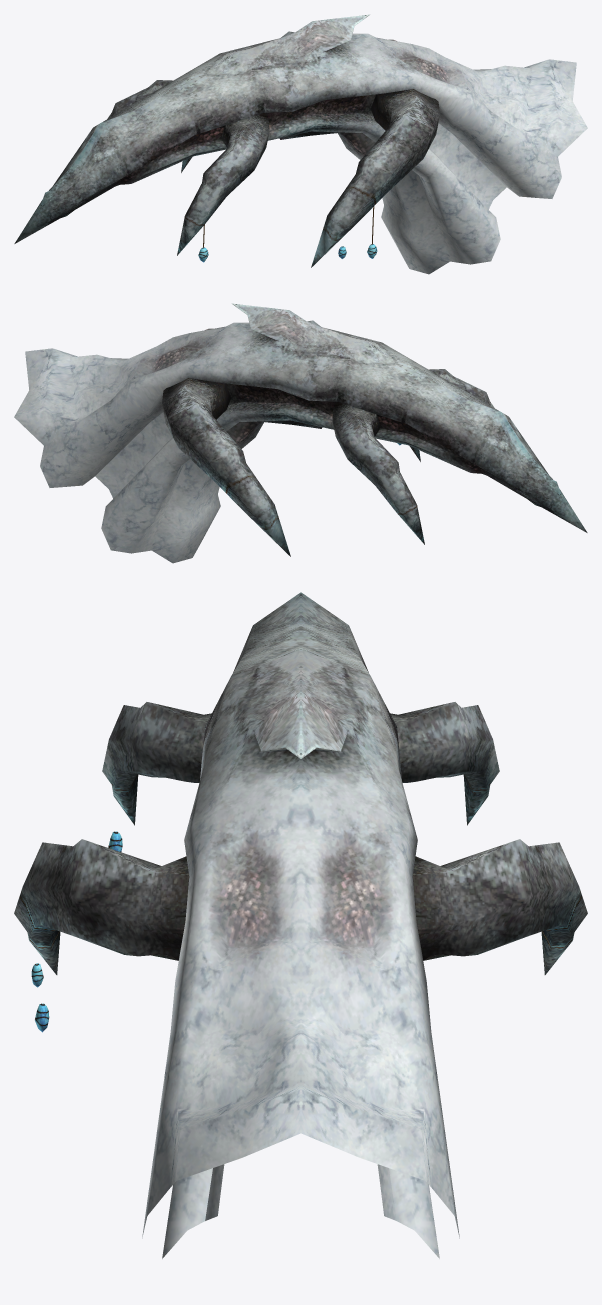
The model's file is riprock_002.glb.
3 views of the same model, one above another, from view 1: azimuth 30°, elevation 25°; view 2: azimuth 150°, elevation 25°; view 3: azimuth 270°, elevation 25° (orthographic). The views are drawn at different scales.
Parts seen in each view (by area): view 1: RipRock_002; view 2: RipRock_002; view 3: RipRock_002.
Part boxes in pixels (bbox=[...]): RipRock_002: bbox=[14, 14, 587, 274]; RipRock_002: bbox=[14, 303, 587, 563]; RipRock_002: bbox=[14, 592, 587, 1258].
Size of the model in its own units: 95.88 by 44.19 by 45.07.
Materials: 2 (2 with a texture image).
